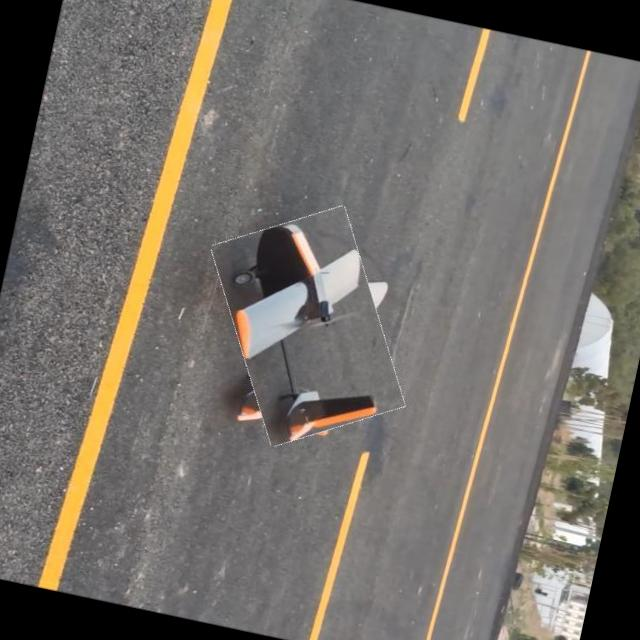UAV: (209, 190, 409, 448)
